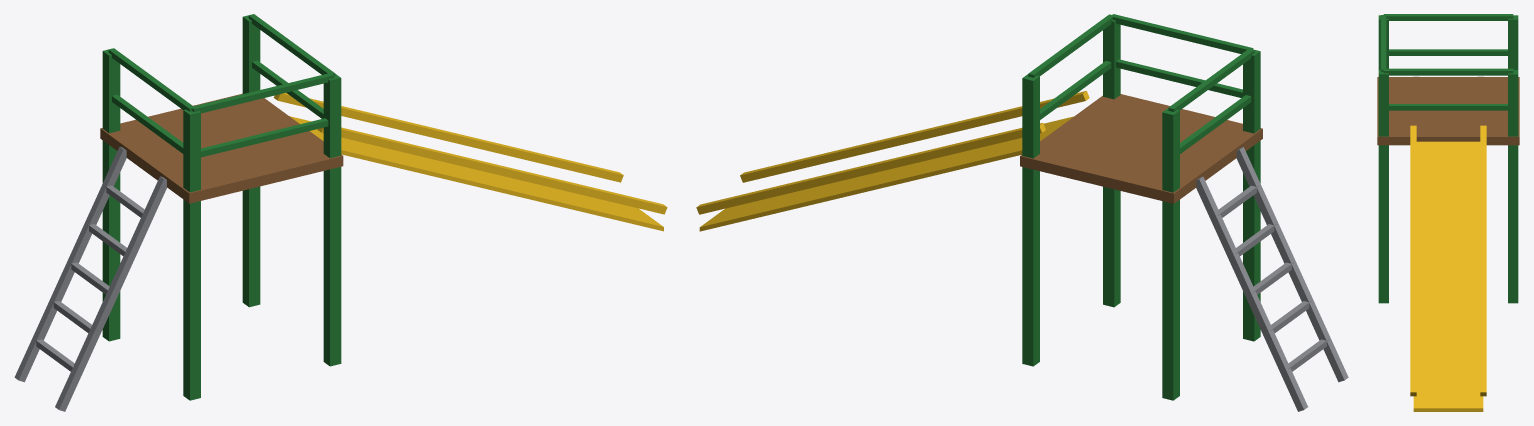
Rendered from bne_play_slide.dae.
3 views of the same model, side by side, from view 1: azimuth 30°, elevation 25°; view 2: azimuth 150°, elevation 25°; view 3: azimuth 270°, elevation 25° (orthographic). The views are drawn at different scales.
Parts seen in each view (by area): view 1: bne_play_slide_0, bne_play_slide_1, bne_play_slide_3, bne_play_slide_2; view 2: bne_play_slide_0, bne_play_slide_1, bne_play_slide_3, bne_play_slide_2; view 3: bne_play_slide_3, bne_play_slide_0, bne_play_slide_1.
Boxes of the visible parts, box(x1,y1,x2,y2) form: bne_play_slide_0: box(102, 14, 341, 400); bne_play_slide_1: box(100, 93, 343, 203); bne_play_slide_3: box(273, 93, 667, 231); bne_play_slide_2: box(14, 146, 166, 411); bne_play_slide_0: box(1022, 14, 1260, 400); bne_play_slide_1: box(1020, 94, 1262, 203); bne_play_slide_3: box(696, 91, 1089, 231); bne_play_slide_2: box(1196, 147, 1348, 411); bne_play_slide_3: box(1410, 125, 1486, 411); bne_play_slide_0: box(1378, 14, 1518, 303); bne_play_slide_1: box(1377, 77, 1519, 145).
Bounding box in the file's own units: 4.33 × 1.1 × 1.98.
